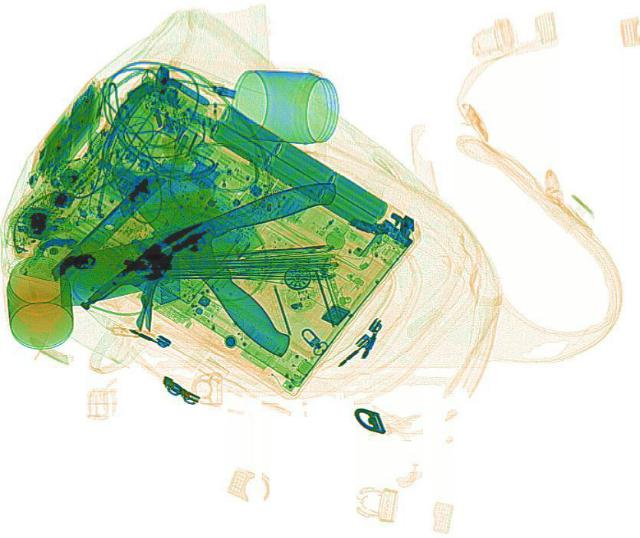Knife: (114, 149, 336, 359), (39, 177, 354, 307)
